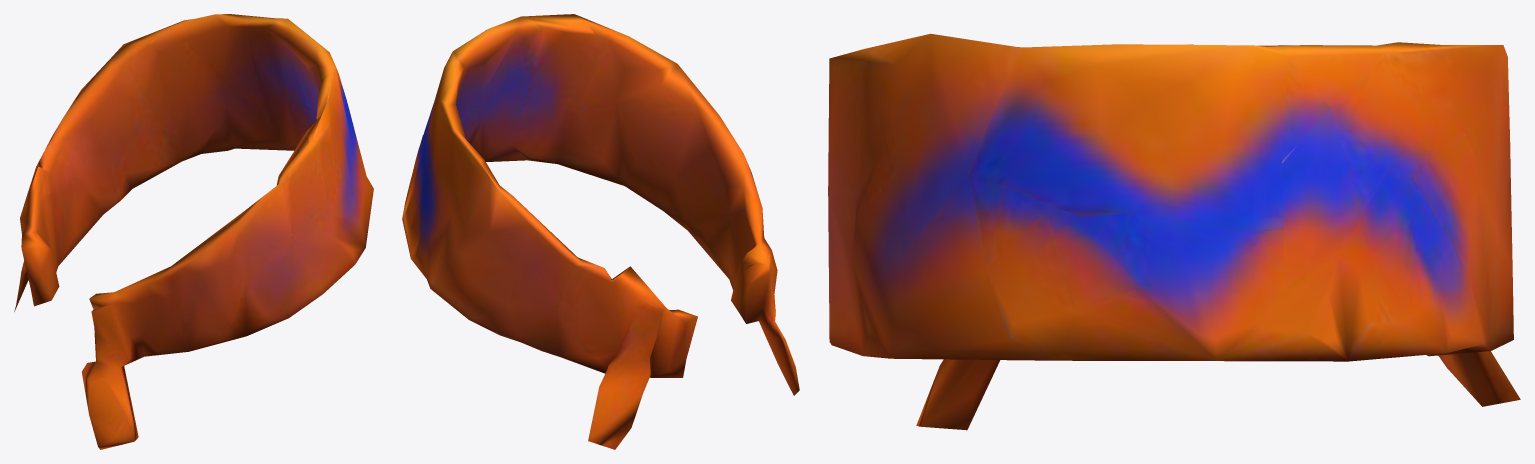
The model's file is bandana.glb.
The picture shows the model from 3 angles, left to right: view 1: azimuth 30°, elevation 25°; view 2: azimuth 150°, elevation 25°; view 3: azimuth 270°, elevation 25°; orthographic projection. The views are drawn at different scales.
Visible parts, largest first — view 1: tripo_node_f157c8ee-60cd-4692-9bbc-e52d86bd8120; view 2: tripo_node_f157c8ee-60cd-4692-9bbc-e52d86bd8120; view 3: tripo_node_f157c8ee-60cd-4692-9bbc-e52d86bd8120.
Boxes of the visible parts, x1,y1,x2,y2 form: tripo_node_f157c8ee-60cd-4692-9bbc-e52d86bd8120: (14, 14, 373, 449); tripo_node_f157c8ee-60cd-4692-9bbc-e52d86bd8120: (402, 14, 799, 449); tripo_node_f157c8ee-60cd-4692-9bbc-e52d86bd8120: (828, 33, 1520, 430).
Bounding box in the file's own units: 1 × 0.9901 × 0.9779.
1 material, 1 textured.
